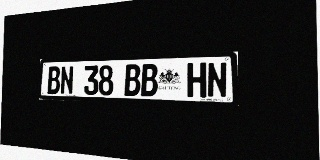3: (84, 65, 98, 95)
8: (99, 65, 114, 95)
B: (124, 64, 141, 96), (141, 64, 158, 96), (47, 66, 60, 94)
H: (187, 62, 206, 98)
N: (207, 62, 227, 98), (60, 66, 74, 95)
